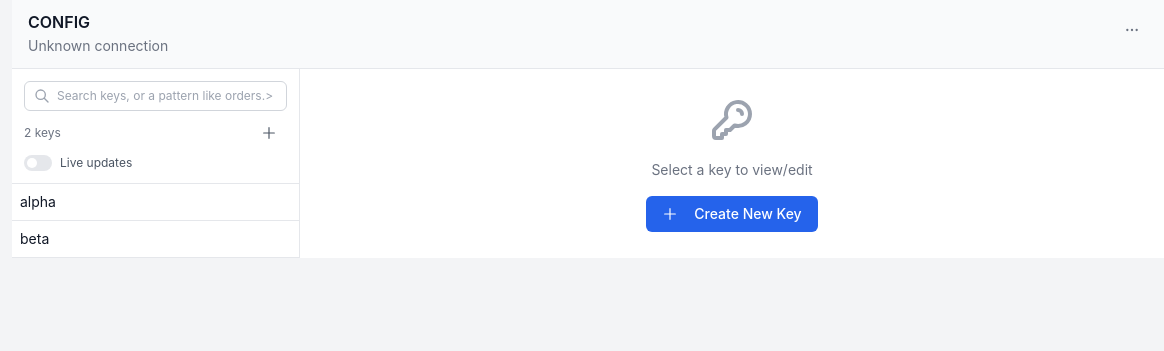
Scenario: KVStorePage › lists the changes and opens a changed key
The image size is (1164, 351).
Click the switch named "live updates".
click(38, 163)  # box [24,155,52,171]
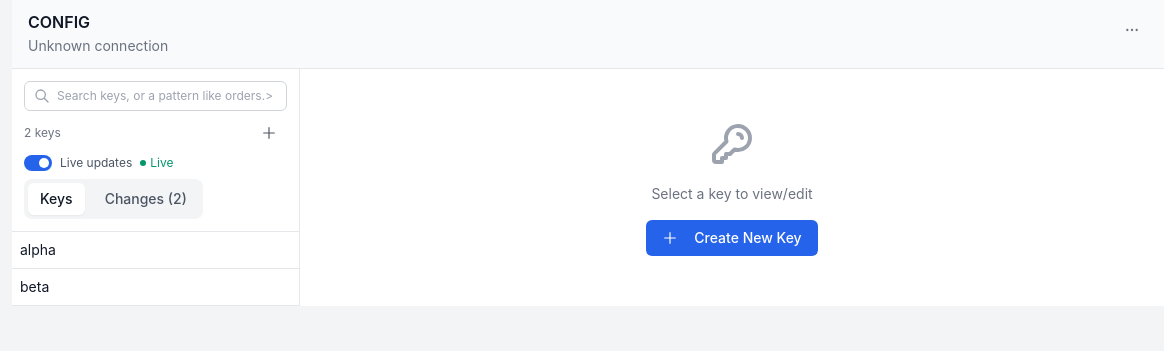
Click the tab "Changes (2)".
click(146, 199)  # box [93,183,199,215]
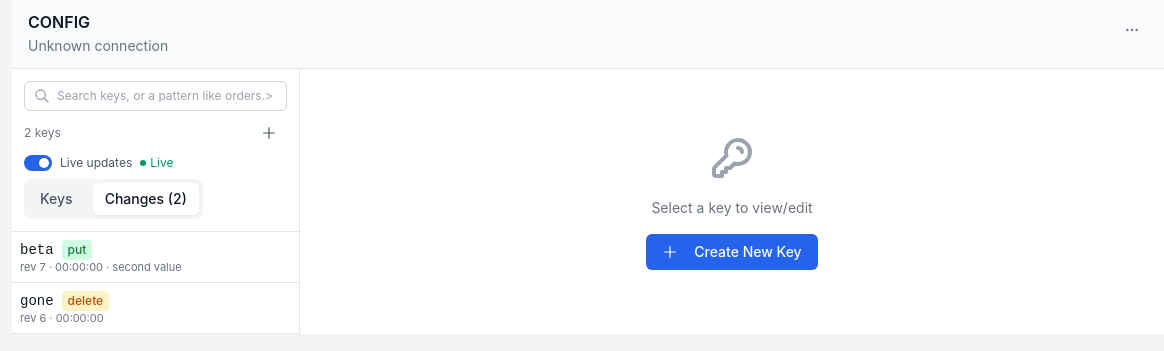
Now the text "delete" is shown, box [62,291,109,311]
Click the button "beta put rev 7 · 00:00:00 · second value".
click(156, 257)  # box [12,232,299,282]
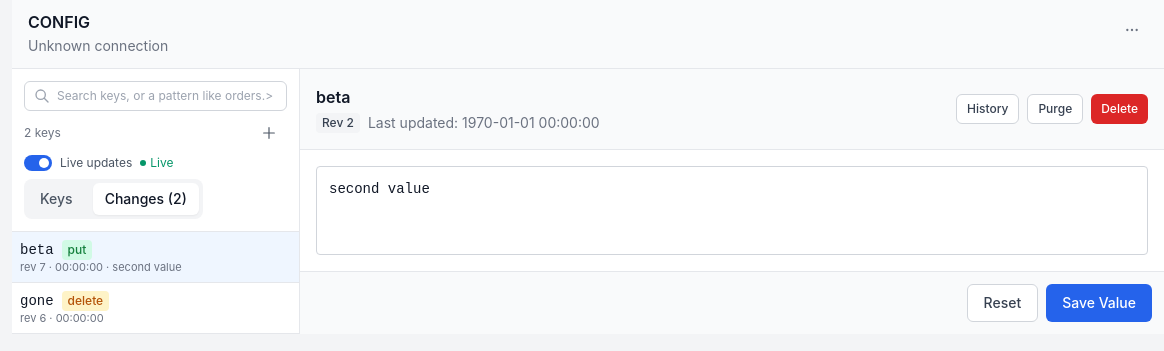
Now the text box named "Key value" holds "second value", box [316,166,1148,255]
